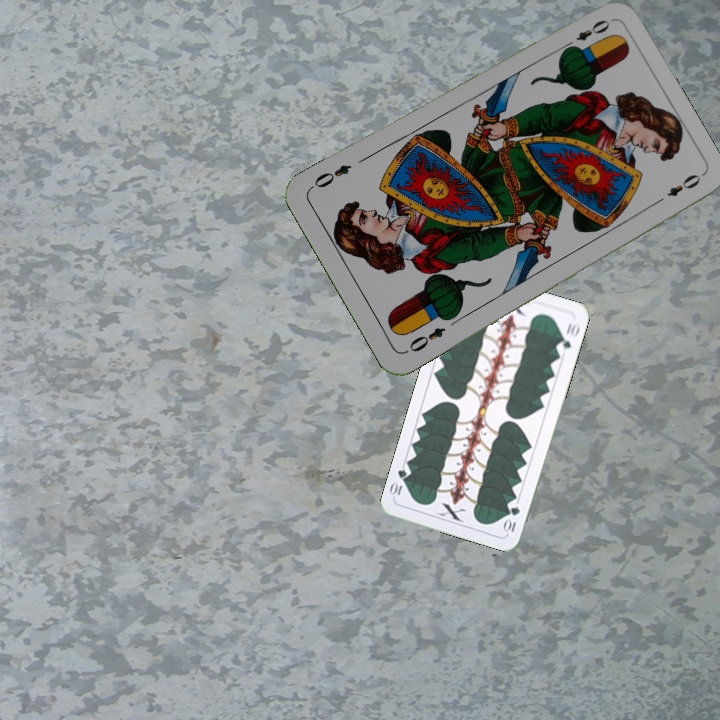EO: (559, 15, 613, 53), (404, 323, 448, 355)
G10: (501, 502, 523, 534)
